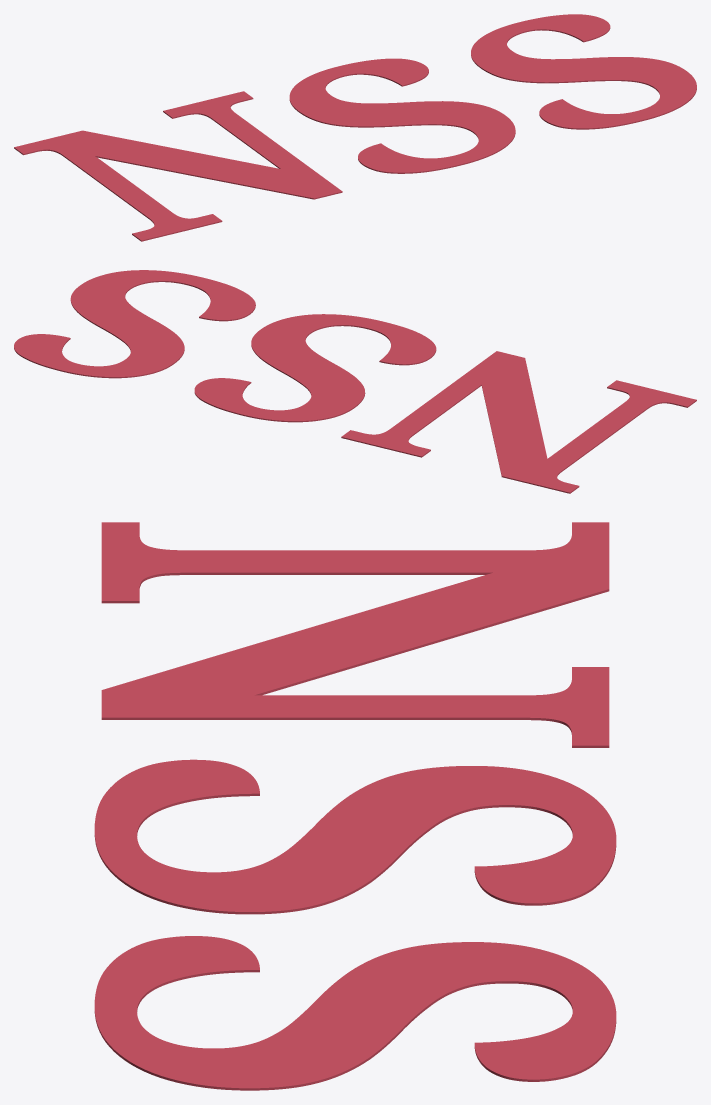
Rendered from NSSCard.glb.
The picture shows the model from 3 angles, top to bottom: view 1: azimuth 30°, elevation 25°; view 2: azimuth 150°, elevation 25°; view 3: azimuth 270°, elevation 25°; orthographic projection. The views are drawn at different scales.
Visible parts, largest first — view 1: Mesh_Mesh_head_geo.001_lambert2SG.001; view 2: Mesh_Mesh_head_geo.001_lambert2SG.001; view 3: Mesh_Mesh_head_geo.001_lambert2SG.001.
Part boxes in pixels (box(x1,y1,x2,y2)): Mesh_Mesh_head_geo.001_lambert2SG.001: box(14, 14, 696, 241); Mesh_Mesh_head_geo.001_lambert2SG.001: box(14, 270, 696, 493); Mesh_Mesh_head_geo.001_lambert2SG.001: box(94, 522, 616, 1090).
Size of the model in its own units: 52.3 by 0.1 by 20.38.
